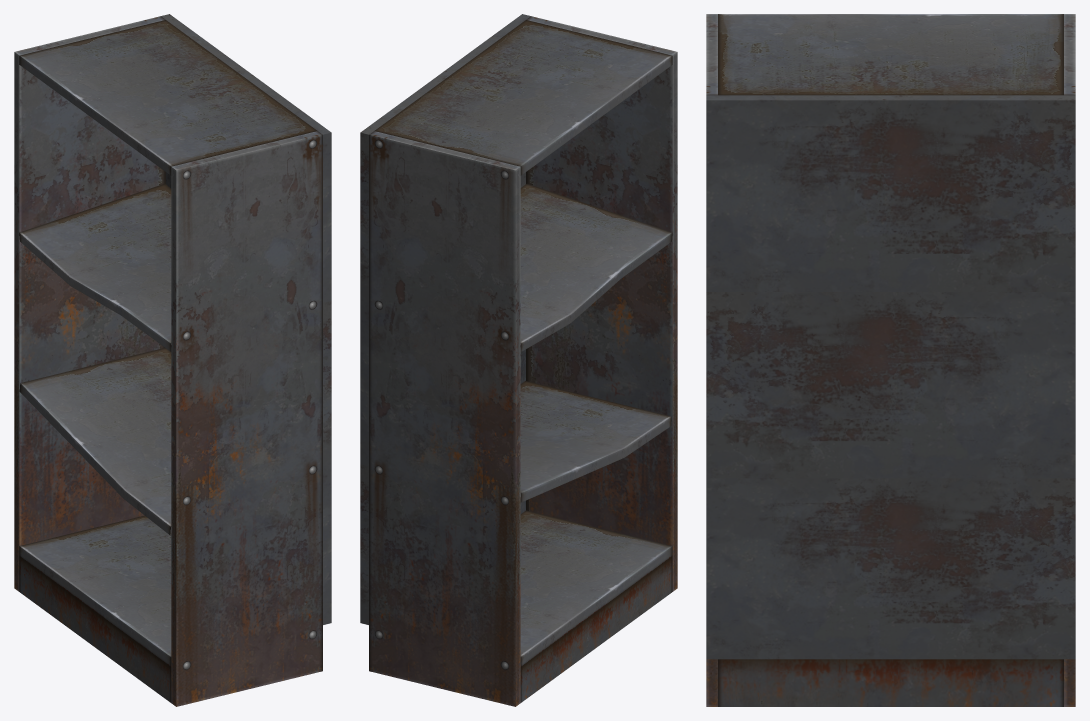
The model's file is metalShelf03_A2.fbx.
3 renders of one model, left to right at view 1: azimuth 30°, elevation 25°; view 2: azimuth 150°, elevation 25°; view 3: azimuth 270°, elevation 25°, orthographic. The views are drawn at different scales.
Visible parts, largest first — view 1: metalShelf03_A2; view 2: metalShelf03_A2; view 3: metalShelf03_A2.
Boxes of the visible parts, x1,y1,x2,y2 form: metalShelf03_A2: (14,14,331,706); metalShelf03_A2: (360,14,677,706); metalShelf03_A2: (706,14,1075,706).
Size of the model in its own units: 53.07 by 175 by 95.8.
